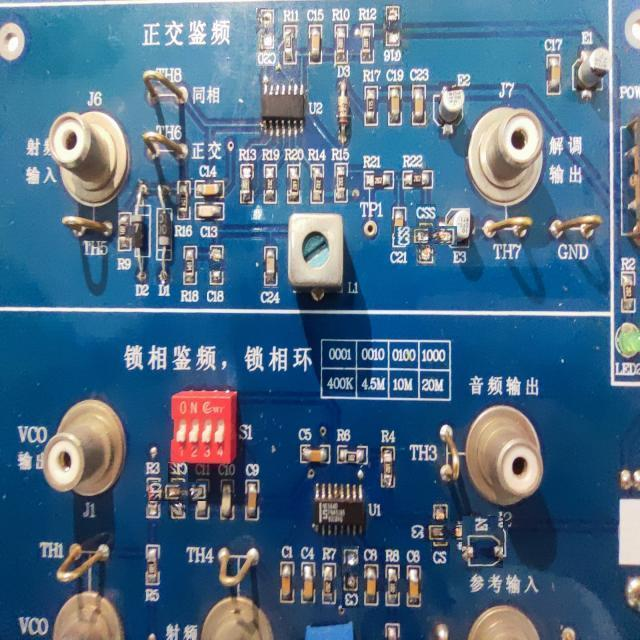miss_welding: (458, 518, 506, 566), (406, 214, 447, 256), (421, 513, 461, 553), (159, 472, 198, 511), (256, 8, 278, 66), (384, 4, 404, 65), (208, 243, 225, 305), (342, 546, 359, 608)
